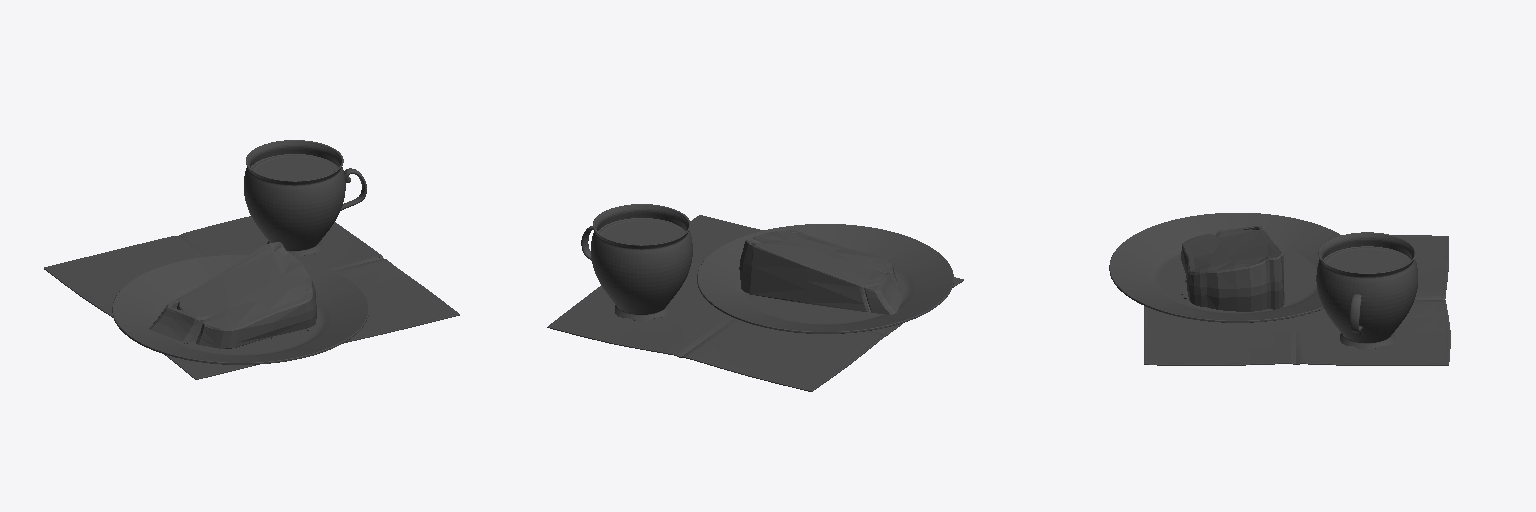
3 views of the same model, side by side, from view 1: azimuth 30°, elevation 25°; view 2: azimuth 150°, elevation 25°; view 3: azimuth 270°, elevation 25° (orthographic).
Visible parts, largest first — view 1: archmodels76_010_04, archmodels76_010_05, archmodels76_010_01, archmodels76_010_02, archmodels76_010_03; view 2: archmodels76_010_04, archmodels76_010_05, archmodels76_010_01, archmodels76_010_02, archmodels76_010_03; view 3: archmodels76_010_04, archmodels76_010_05, archmodels76_010_02, archmodels76_010_01, archmodels76_010_03.
Part boxes in pixels (bbox=[...]): archmodels76_010_04: bbox=[44, 216, 459, 379]; archmodels76_010_05: bbox=[112, 255, 368, 364]; archmodels76_010_01: bbox=[149, 242, 316, 348]; archmodels76_010_02: bbox=[244, 140, 366, 256]; archmodels76_010_03: bbox=[251, 154, 338, 180]; archmodels76_010_04: bbox=[547, 215, 963, 391]; archmodels76_010_05: bbox=[697, 224, 953, 333]; archmodels76_010_01: bbox=[739, 230, 902, 314]; archmodels76_010_02: bbox=[581, 204, 692, 321]; archmodels76_010_03: bbox=[598, 218, 685, 244]; archmodels76_010_04: bbox=[1144, 235, 1450, 365]; archmodels76_010_05: bbox=[1109, 213, 1340, 322]; archmodels76_010_02: bbox=[1316, 232, 1417, 349]; archmodels76_010_01: bbox=[1181, 226, 1284, 311]; archmodels76_010_03: bbox=[1324, 246, 1410, 272].
Bounding box in the file's own units: 254 × 71.23 × 255.